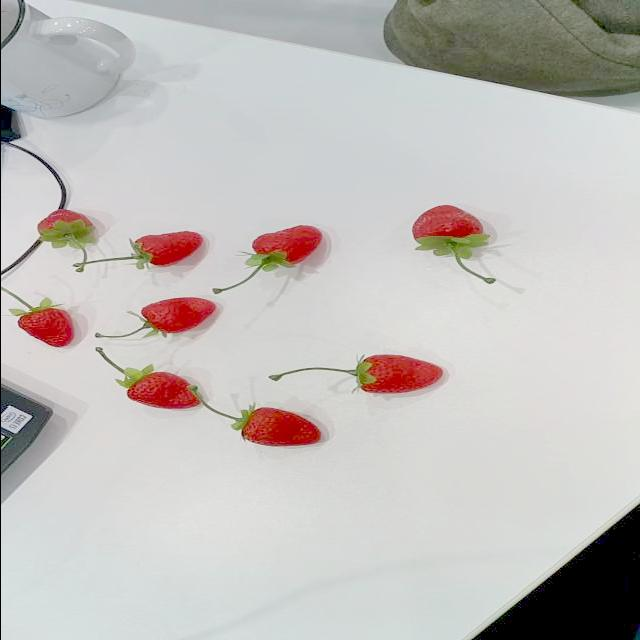ripe: (345, 350, 446, 400), (407, 203, 495, 260), (234, 402, 332, 452), (240, 217, 324, 273), (111, 360, 201, 412), (120, 221, 206, 271), (132, 292, 224, 338), (9, 296, 82, 350), (23, 203, 89, 248)
